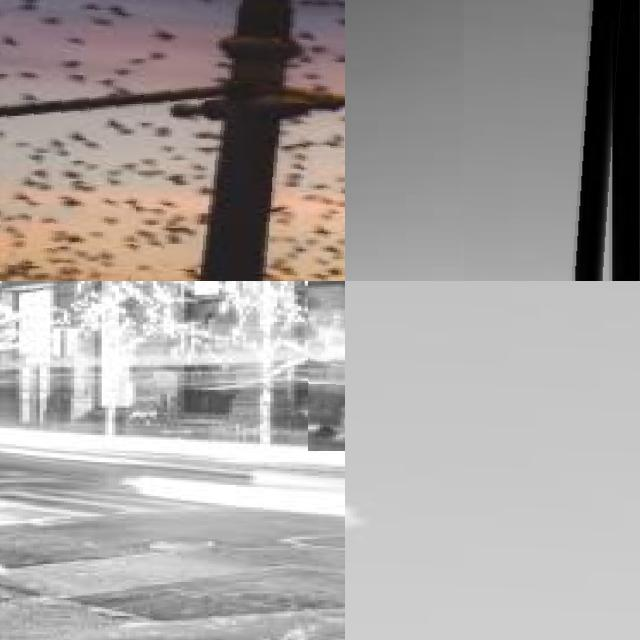street light: (345, 281, 640, 640), (0, 0, 345, 281), (464, 0, 639, 281)
